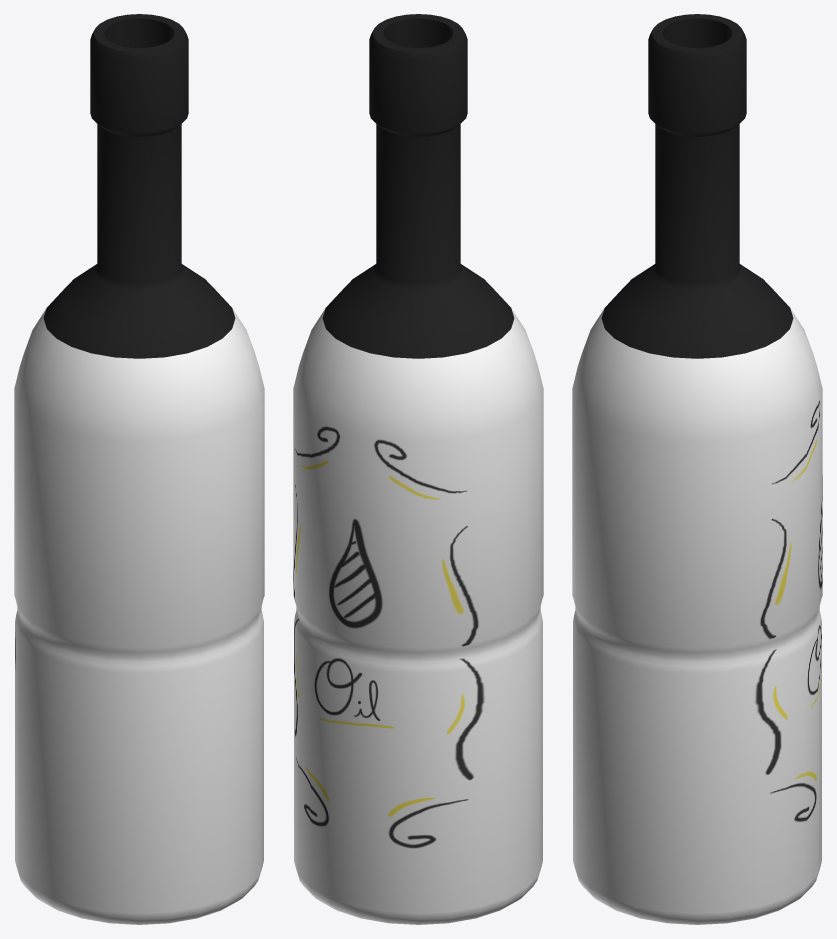
Rendered from garrafaOleo.fbx.
The picture shows the model from 3 angles, left to right: view 1: azimuth 30°, elevation 25°; view 2: azimuth 150°, elevation 25°; view 3: azimuth 270°, elevation 25°; orthographic projection.
Visible parts, largest first — view 1: GarrafaOleo; view 2: GarrafaOleo; view 3: GarrafaOleo.
Part boxes in pixels (x1=…): GarrafaOleo: x1=14, y1=14, x2=264, y2=924; GarrafaOleo: x1=293, y1=14, x2=543, y2=924; GarrafaOleo: x1=572, y1=14, x2=822, y2=924.
Bounding box in the file's own units: 218 × 811 × 218.
